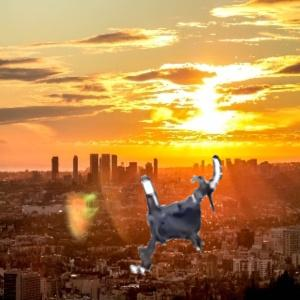drone: (107, 148, 247, 288)
